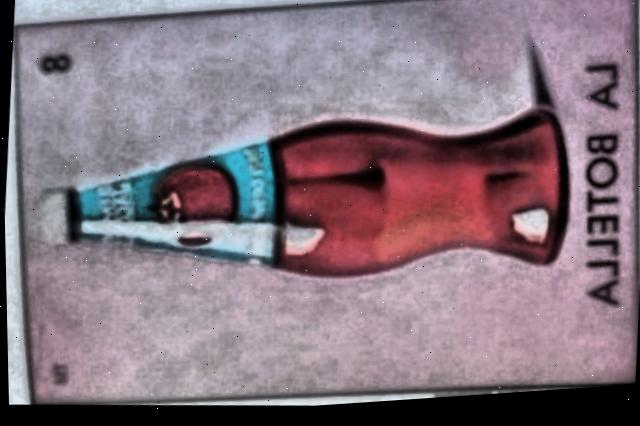La Botella: (15, 0, 639, 405)
